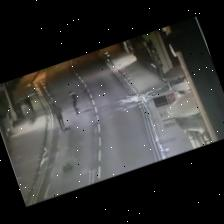person: (52, 103, 64, 130), (69, 92, 77, 114)
